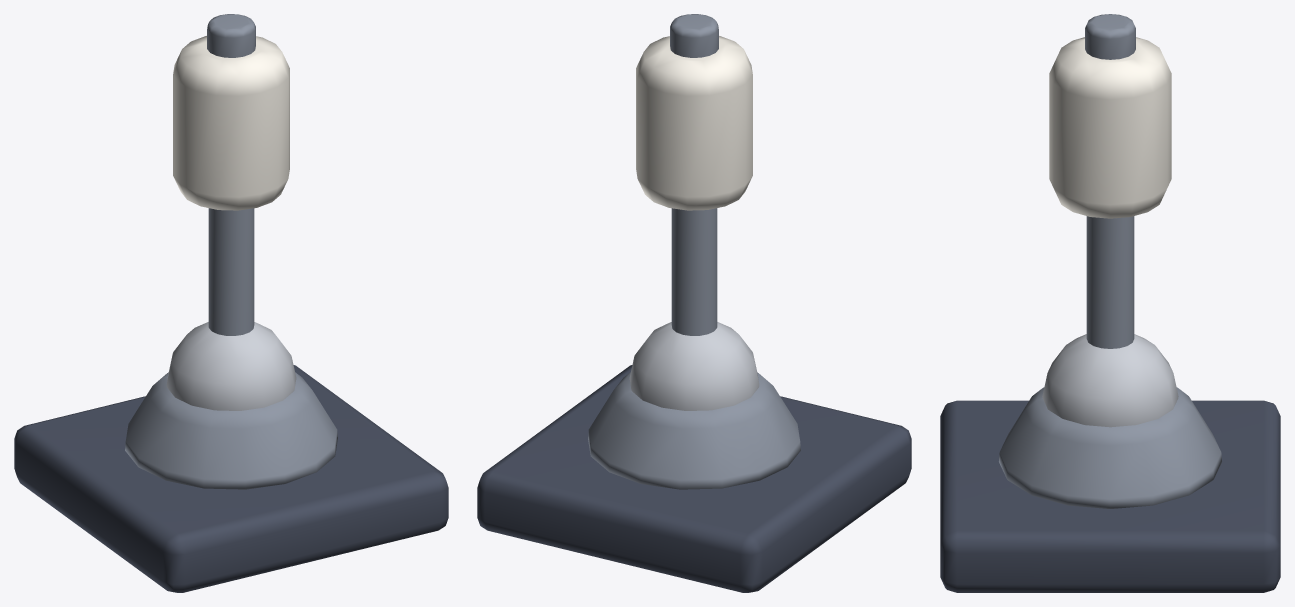
File: Ctrl_AttitudeStick.glb
3 renders of one model, left to right at view 1: azimuth 30°, elevation 25°; view 2: azimuth 150°, elevation 25°; view 3: azimuth 270°, elevation 25°, orthographic. The views are drawn at different scales.
Parts seen in each view (by area): view 1: Ctrl_AttitudeStick.Base, Ctrl_AttitudeStick.Move_Stick, Ctrl_AttitudeStick.Boot; view 2: Ctrl_AttitudeStick.Base, Ctrl_AttitudeStick.Move_Stick, Ctrl_AttitudeStick.Boot; view 3: Ctrl_AttitudeStick.Base, Ctrl_AttitudeStick.Move_Stick, Ctrl_AttitudeStick.Boot.
Part boxes in pixels (x1=…): Ctrl_AttitudeStick.Base: x1=14, y1=365, x2=448, y2=592; Ctrl_AttitudeStick.Move_Stick: x1=166, y1=14, x2=296, y2=410; Ctrl_AttitudeStick.Boot: x1=125, y1=372, x2=337, y2=489; Ctrl_AttitudeStick.Base: x1=477, y1=365, x2=911, y2=592; Ctrl_AttitudeStick.Move_Stick: x1=629, y1=14, x2=759, y2=410; Ctrl_AttitudeStick.Boot: x1=588, y1=372, x2=800, y2=489; Ctrl_AttitudeStick.Base: x1=940, y1=400, x2=1280, y2=592; Ctrl_AttitudeStick.Move_Stick: x1=1042, y1=14, x2=1178, y2=427; Ctrl_AttitudeStick.Boot: x1=999, y1=387, x2=1221, y2=508.
Size of the model in its own units: 0.2 by 0.3275 by 0.2.
Materials: 1 (1 with a texture image).
